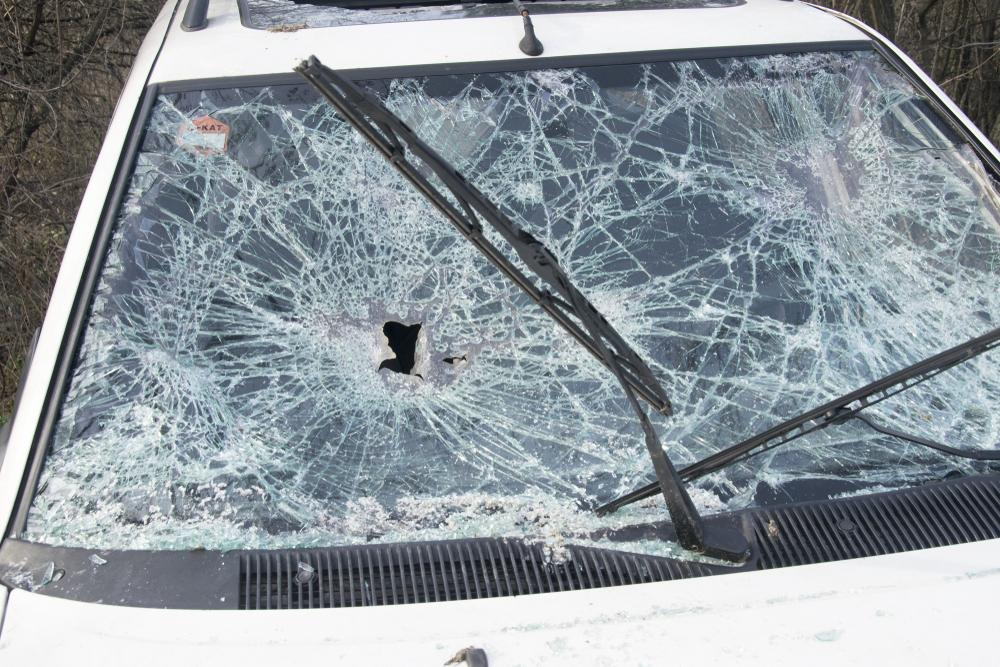glass shatter: (23, 51, 1000, 552)
